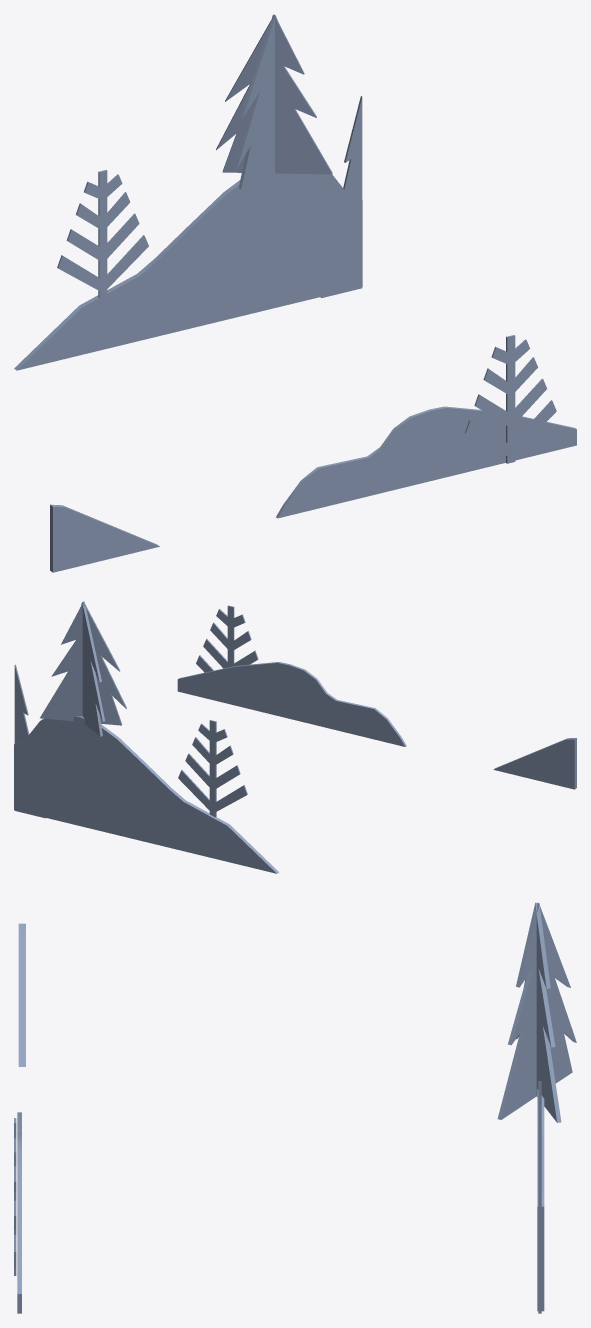
Rendered from frame_0230.glb.
3 views of the same model, one above another, from view 1: azimuth 30°, elevation 25°; view 2: azimuth 150°, elevation 25°; view 3: azimuth 270°, elevation 25° (orthographic). The views are drawn at different scales.
Visible parts, largest first — view 1: export_trees_001.002; view 2: export_trees_001.002; view 3: export_trees_001.002.
Boxes of the visible parts, <box> form: export_trees_001.002: <box>14,14,576,572</box>; export_trees_001.002: <box>14,601,576,873</box>; export_trees_001.002: <box>14,902,576,1313</box>.
Bounding box in the file's own units: 0.4327 × 0.2333 × 0.3323.
